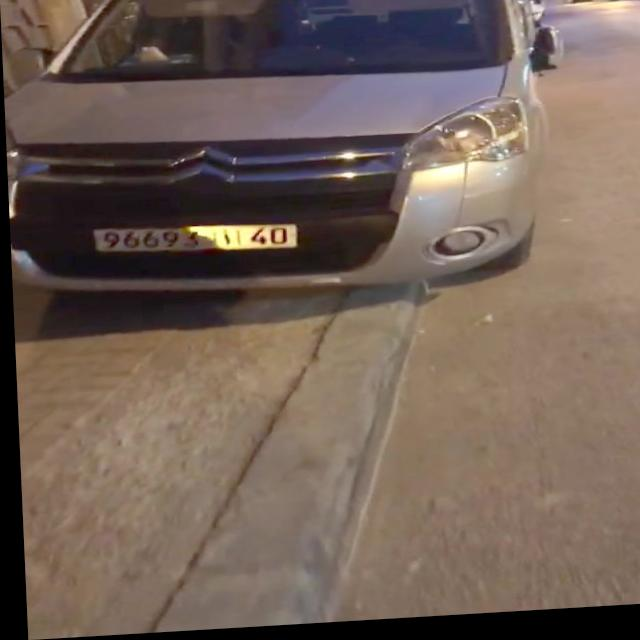License-Plate: (92, 227, 296, 253)
